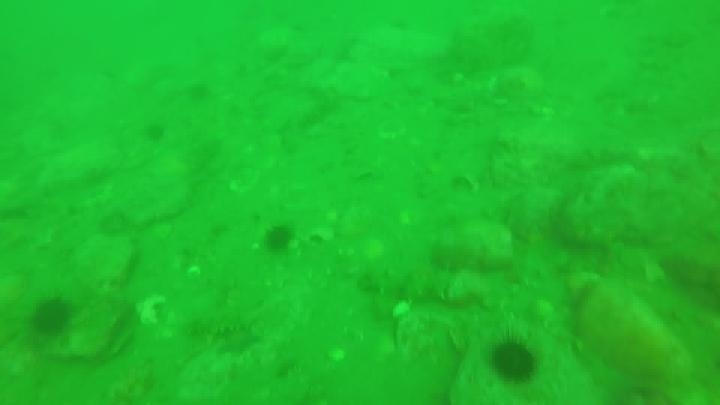echinus: (489, 336, 540, 384), (29, 296, 75, 339), (261, 223, 296, 255), (184, 80, 213, 105), (142, 121, 168, 144)
holothurian: (357, 264, 480, 307), (185, 310, 261, 342)
starfish: (214, 324, 263, 358)
